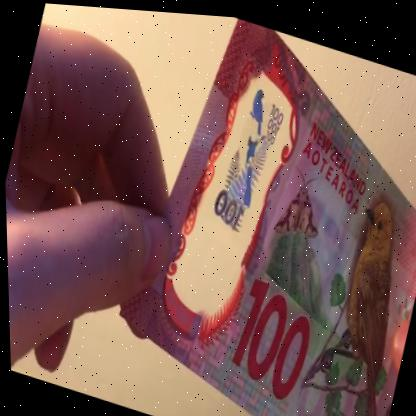100B: (198, 69, 296, 254)
